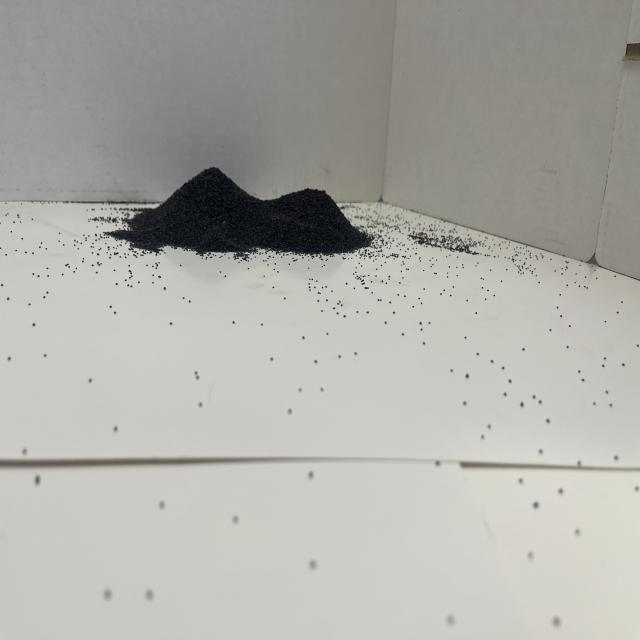Poppy Seeds: (116, 152, 379, 268)
